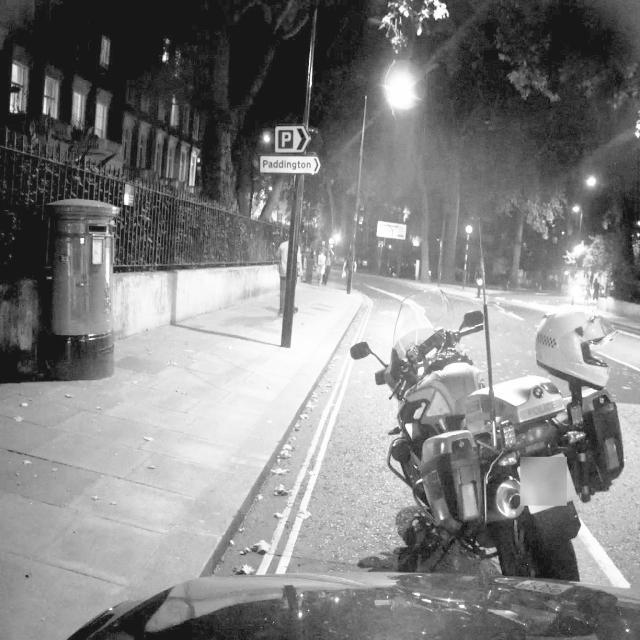Sign: (260, 154, 321, 174), (274, 126, 311, 153)
